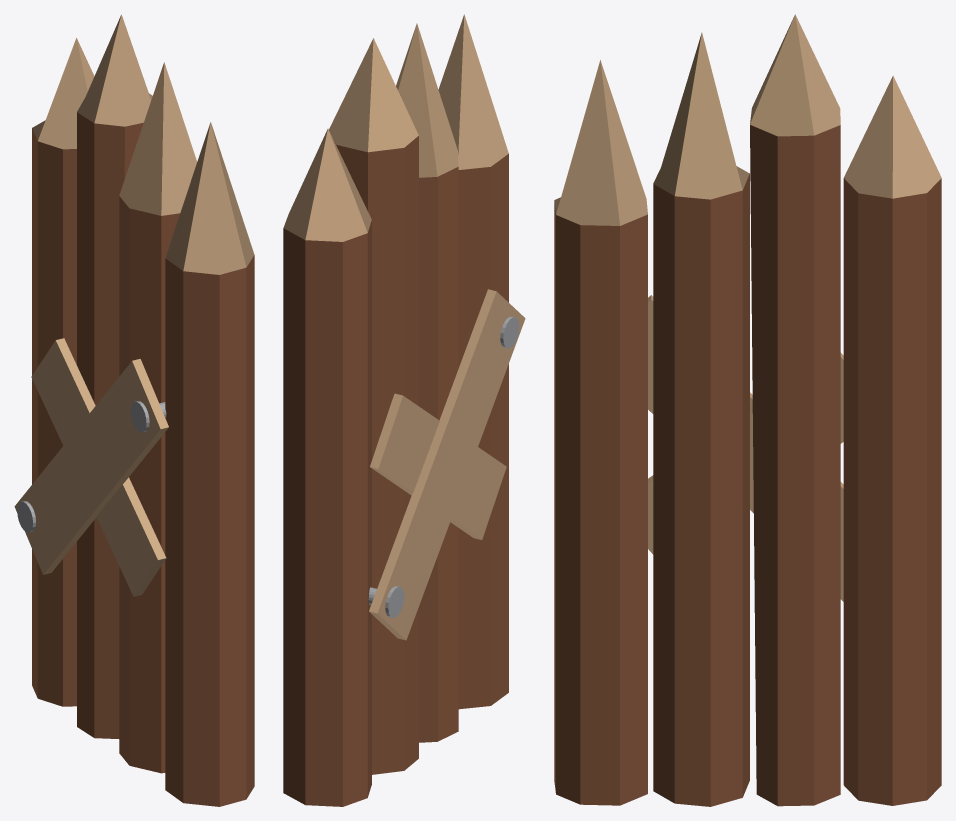
The model's file is Barricada_2.fbx.
The picture shows the model from 3 angles, left to right: view 1: azimuth 30°, elevation 25°; view 2: azimuth 150°, elevation 25°; view 3: azimuth 270°, elevation 25°; orthographic projection. The views are drawn at different scales.
Parts seen in each view (by area): view 1: Barricade 1.001, Cube.001, Cylinder.001; view 2: Barricade 1.001, Cube.001, Cylinder.001; view 3: Barricade 1.001, Cube.001.
Part boxes in pixels (x1,y1,x2,y2): Barricade 1.001: [32, 14, 254, 806]; Cube.001: [14, 338, 168, 596]; Cylinder.001: [17, 401, 166, 532]; Barricade 1.001: [283, 14, 508, 806]; Cube.001: [369, 289, 525, 640]; Cylinder.001: [368, 316, 519, 617]; Barricade 1.001: [554, 14, 941, 806]; Cube.001: [648, 295, 843, 601].
Bounding box in the file's own units: 111 × 764 × 347.
